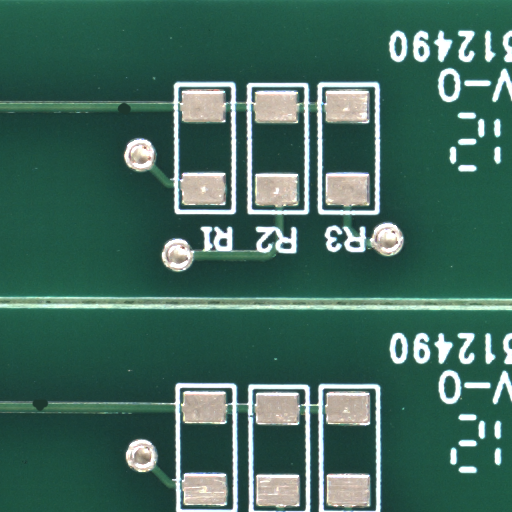Mouse_bite: (40, 406, 55, 417), (124, 108, 137, 119)
